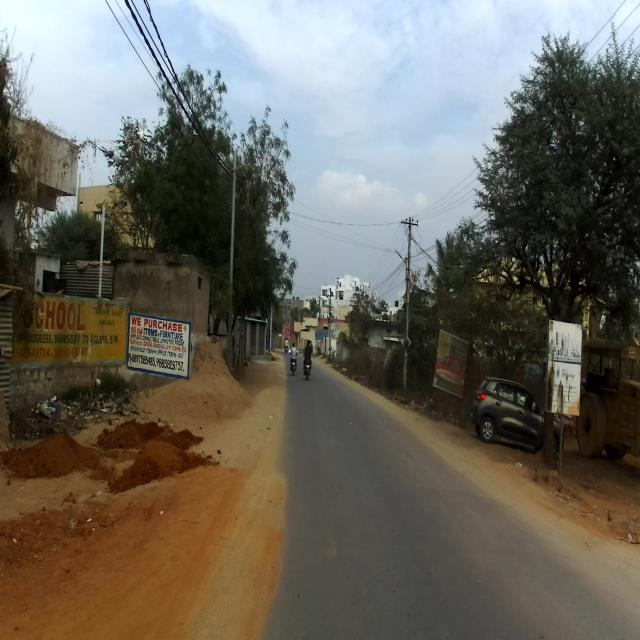car ahead at: (474, 368, 538, 451)
